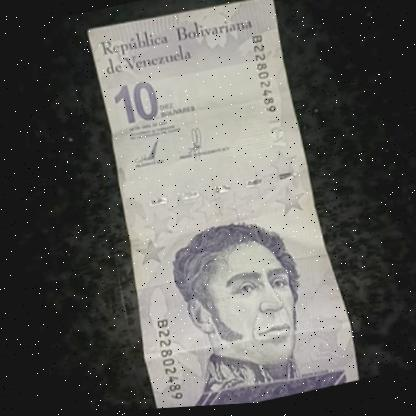ten-front-vef: (67, 0, 360, 413)
